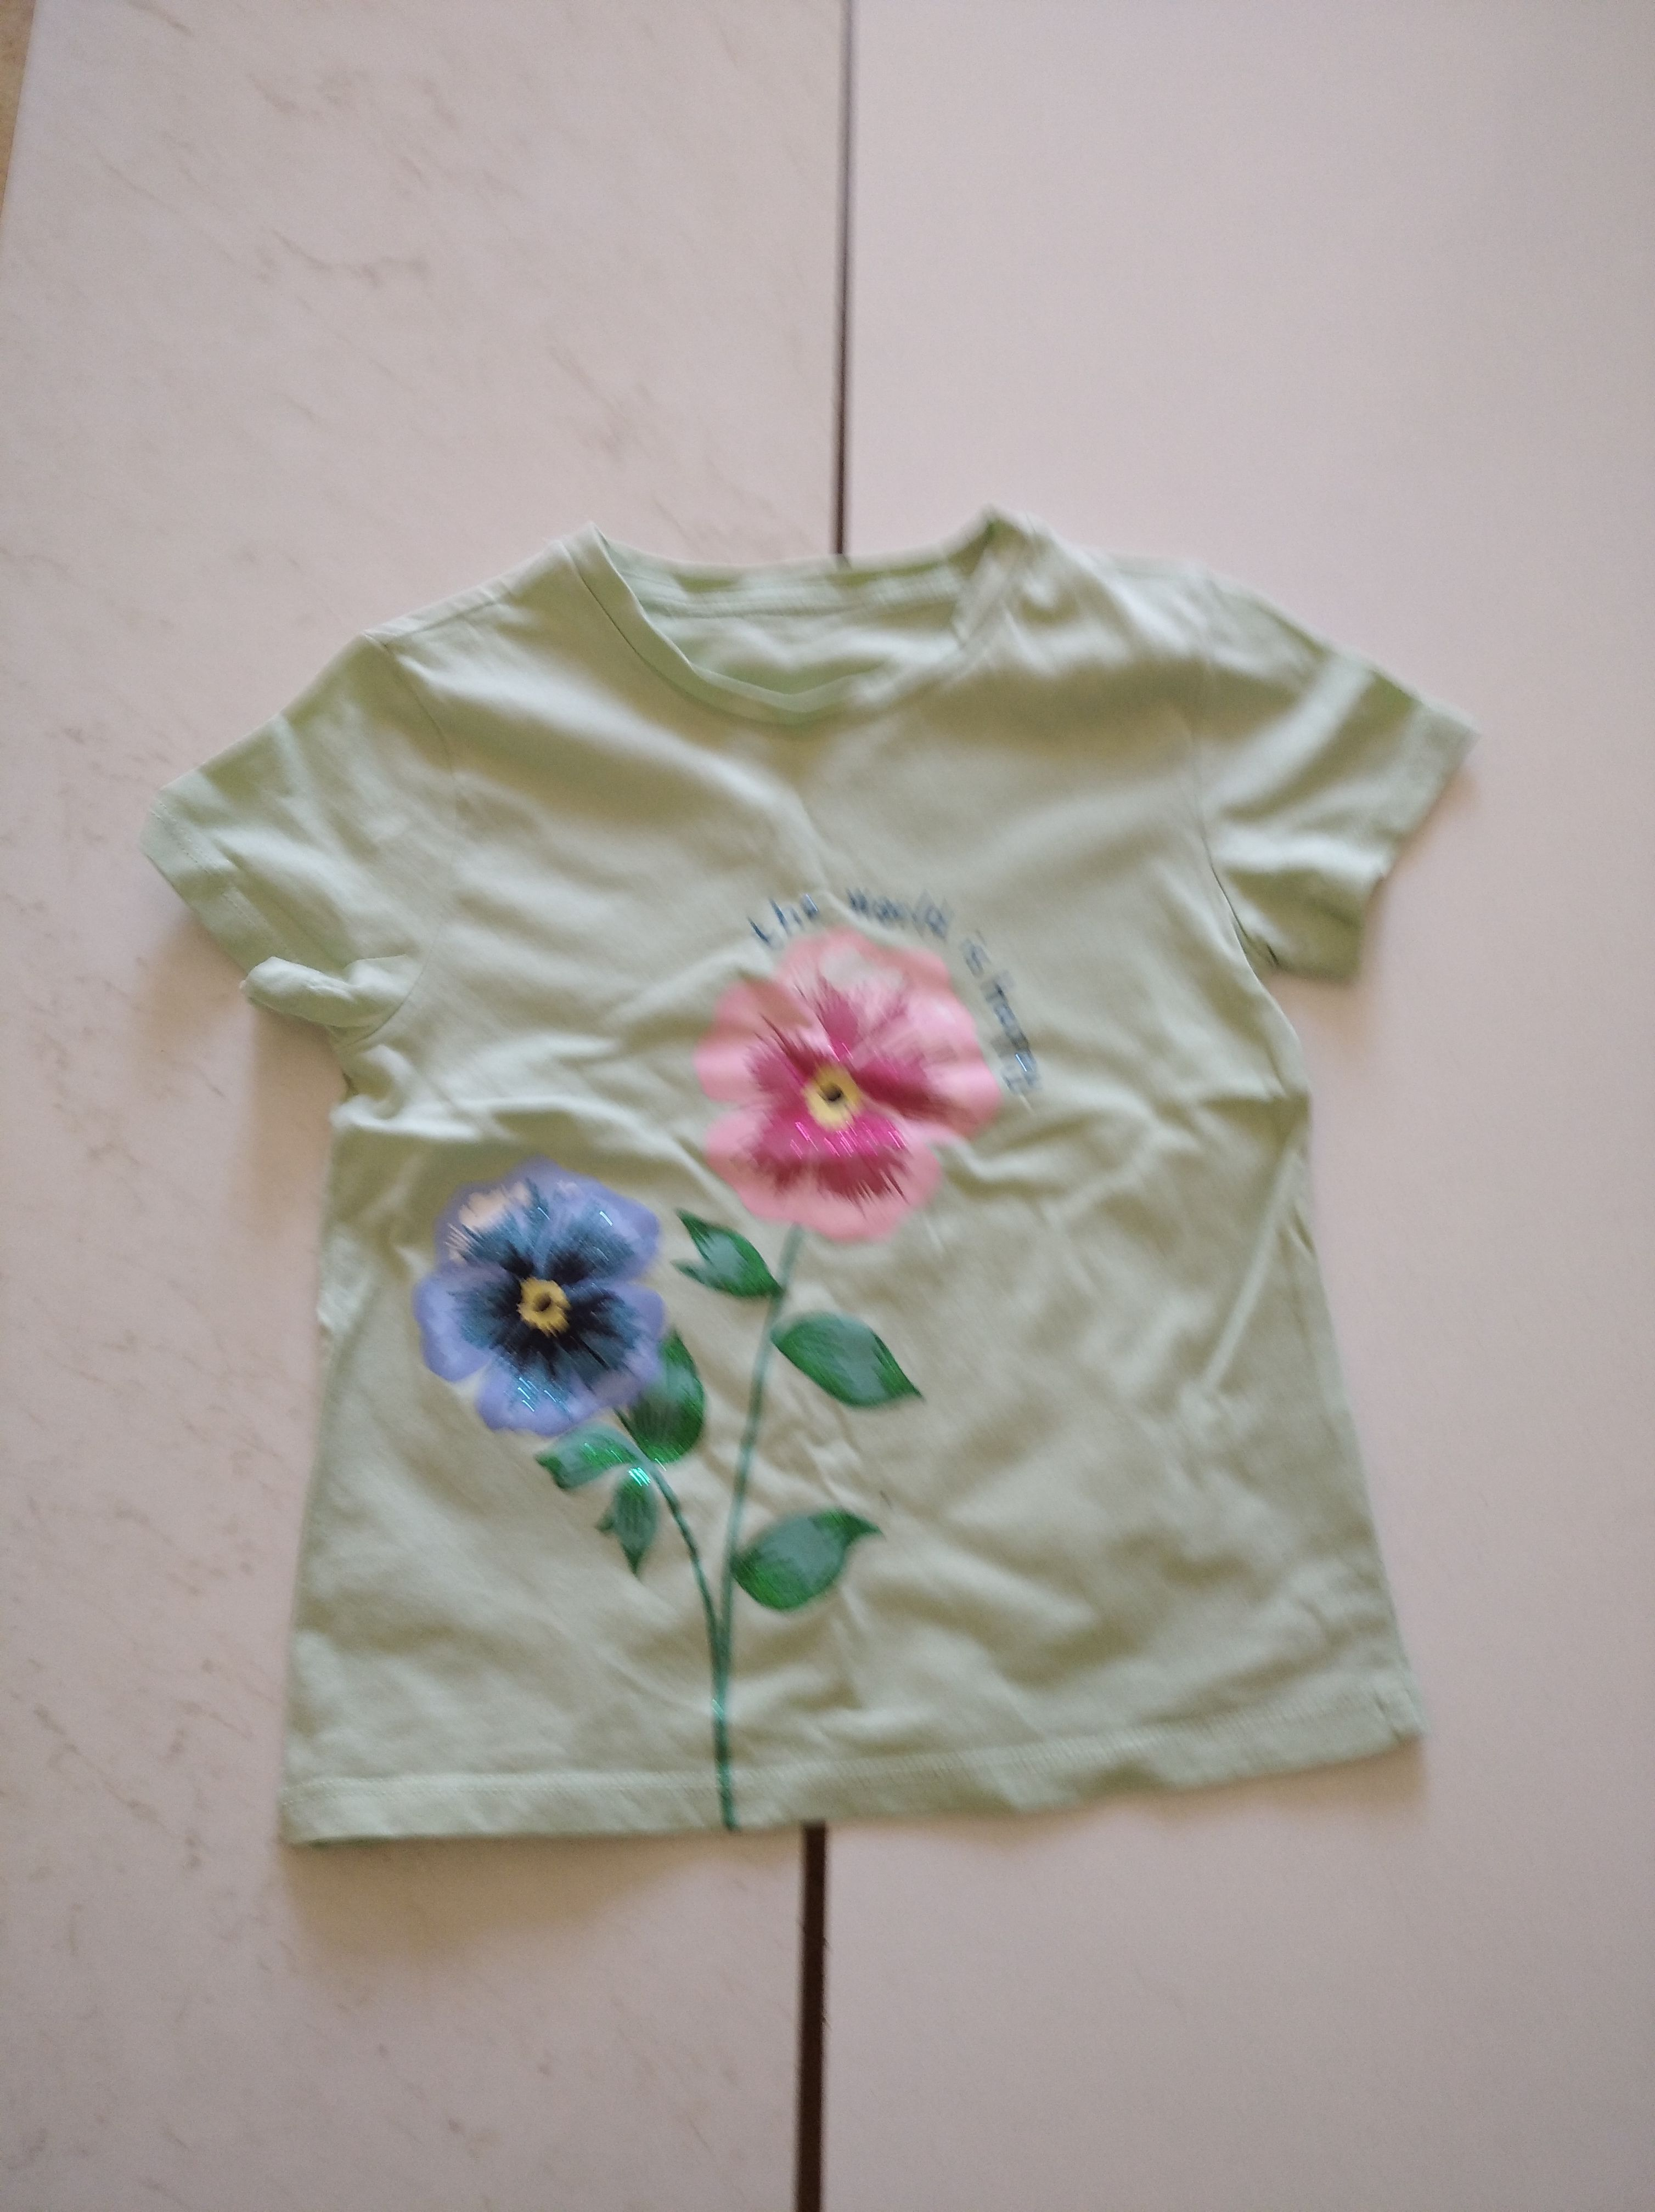clothes: (115, 485, 1460, 1812)
